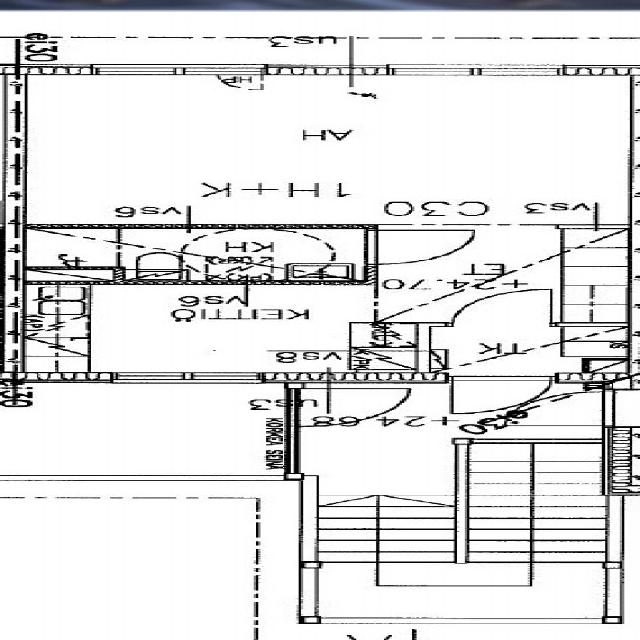door: (285, 389, 411, 427), (366, 230, 478, 265), (452, 288, 552, 326), (454, 376, 554, 414)
